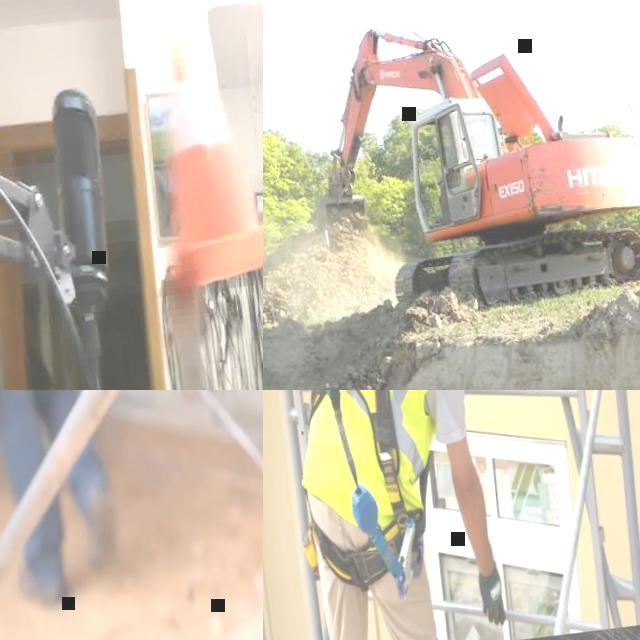machinery: (295, 0, 640, 324)
no_vest: (270, 390, 478, 541)
person: (263, 390, 532, 640), (0, 390, 138, 617), (426, 142, 467, 226)
safety_cone: (138, 9, 263, 298)
